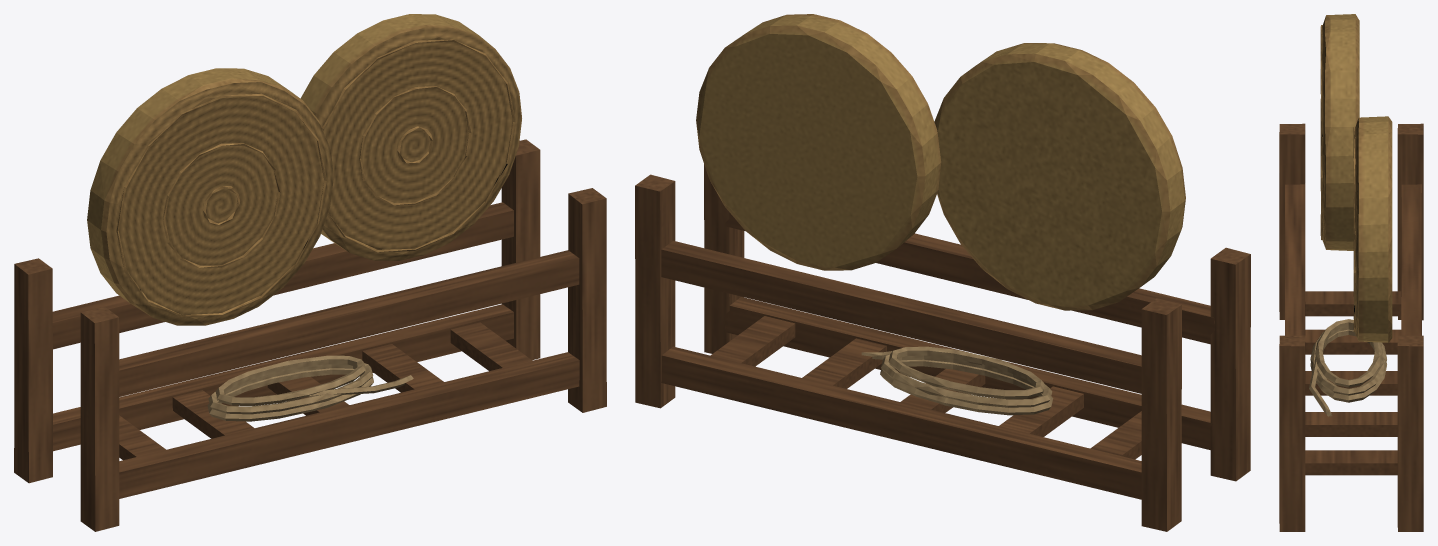
File: TrialSpareTargets_LOD1.fbx
3 renders of one model, left to right at view 1: azimuth 30°, elevation 25°; view 2: azimuth 150°, elevation 25°; view 3: azimuth 270°, elevation 25°, orthographic. The views are drawn at different scales.
Parts seen in each view (by area): view 1: TrialSpareTargets.001; view 2: TrialSpareTargets.001; view 3: TrialSpareTargets.001.
Part boxes in pixels (bbox=[...]): TrialSpareTargets.001: bbox=[14, 14, 606, 531]; TrialSpareTargets.001: bbox=[635, 14, 1250, 531]; TrialSpareTargets.001: bbox=[1279, 14, 1423, 531].
Size of the model in its own units: 1.57 by 1.15 by 0.429.
Materials: 1 (1 with a texture image).
